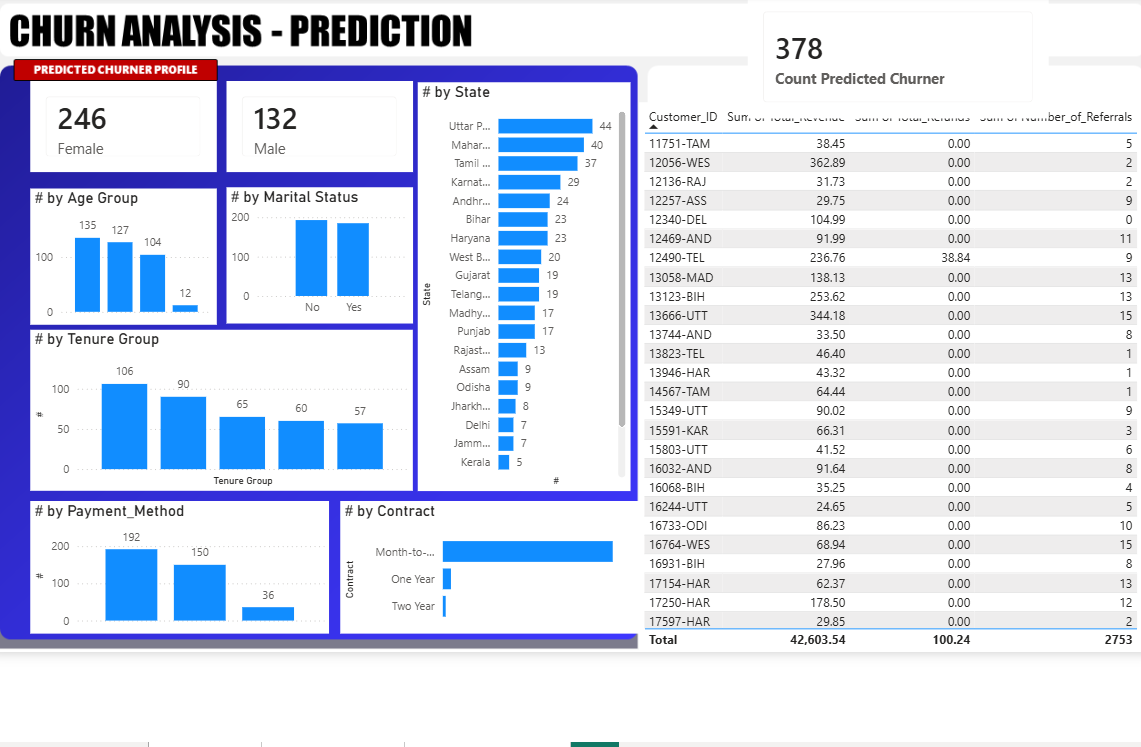

Layout of this report page (visuals, bound fields, positions):
{"tool":"powerbi","page":{"name":"Churn Prediction","canvas":[1280,720],"ordinal":2},"visuals":[{"type":"tableEx","fields":{"Values":["Predictions.Customer_ID","Sum(Predictions.Total_Revenue)","Sum(Predictions.Total_Refunds)","Sum(Predictions.Number_of_Referrals)"]},"box":[713.6,116.6,566.7,603.8],"z":0},{"type":"cardVisual","fields":{"Data":["tbl_meaasures.Count Predicted Churner"]},"box":[832.9,0,330.7,134.5],"z":1000},{"type":"cardVisual","fields":{"Data":["tbl_meaasures.Count Predicted Churner"]},"box":[45.3,93.3,204.5,100.2],"z":2000},{"type":"cardVisual","fields":{"Data":["tbl_meaasures.Count Predicted Churner"]},"box":[260.7,93.3,204.5,100.2],"z":3000},{"type":"clusteredColumnChart","fields":{"Category":["mapping_AgeGrp.Age Group"],"Y":["CountNonNull(Predictions.Customer_ID)"]},"box":[45.3,211.3,204.5,149.6],"z":4000},{"type":"clusteredColumnChart","fields":{"Category":["Predictions.Married"],"Y":["CountNonNull(Predictions.Customer_ID)"]},"box":[260.7,209.9,204.5,149.6],"z":5000},{"type":"clusteredColumnChart","fields":{"Category":["mapping_TenureGrp.Tenure Group"],"Y":["CountNonNull(Predictions.Customer_ID)"]},"box":[45.3,366.4,419.9,177],"z":6000},{"type":"clusteredColumnChart","fields":{"Category":["Predictions.Payment_Method"],"Y":["CountNonNull(Predictions.Customer_ID)"]},"box":[45.3,554.4,328,145.5],"z":7000},{"type":"clusteredBarChart","fields":{"Category":["Predictions.Contract"],"Y":["CountNonNull(Predictions.Customer_ID)"]},"box":[385.6,554.4,328,145.5],"z":8000},{"type":"clusteredBarChart","fields":{"Category":["Predictions.State"],"Y":["CountNonNull(Predictions.Customer_ID)"]},"box":[470.7,94.7,233.3,448.7],"z":9000}]}

Visuals, with their boxes in screenshot pixels (x1, y1, x2, y2):
tableEx - Predictions.Customer_ID x Sum(Predictions.Total_Revenue): crop(636, 97, 1140, 648)
cardVisual - tbl_meaasures.Count Predicted Churner: crop(744, 0, 1046, 114)
cardVisual - tbl_meaasures.Count Predicted Churner: crop(26, 76, 213, 167)
cardVisual - tbl_meaasures.Count Predicted Churner: crop(223, 76, 409, 167)
clusteredColumnChart - mapping_AgeGrp.Age Group x CountNonNull(Predictions.Customer_ID): crop(26, 184, 213, 320)
clusteredColumnChart - Predictions.Married x CountNonNull(Predictions.Customer_ID): crop(223, 182, 409, 319)
clusteredColumnChart - mapping_TenureGrp.Tenure Group x CountNonNull(Predictions.Customer_ID): crop(26, 325, 409, 486)
clusteredColumnChart - Predictions.Payment_Method x CountNonNull(Predictions.Customer_ID): crop(26, 496, 325, 629)
clusteredBarChart - Predictions.Contract x CountNonNull(Predictions.Customer_ID): crop(337, 496, 636, 629)
clusteredBarChart - Predictions.State x CountNonNull(Predictions.Customer_ID): crop(414, 77, 627, 486)
